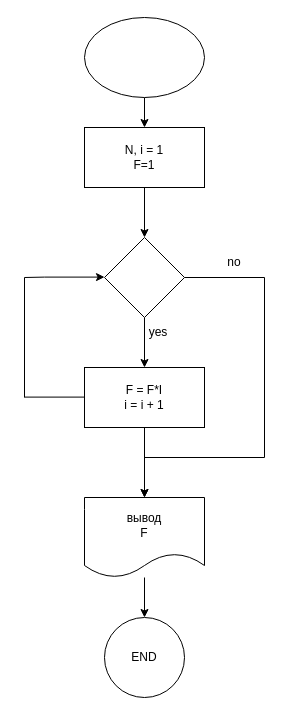
The diagram is 283 pixels wide and 715 high, and some of its shapes have lost their labels. The shapes that lost their labels are listed below. From the top down, each one's centre as x and y in pixels, then its label:
At point (144, 57): "Start".
At point (144, 277): "i <= N".
